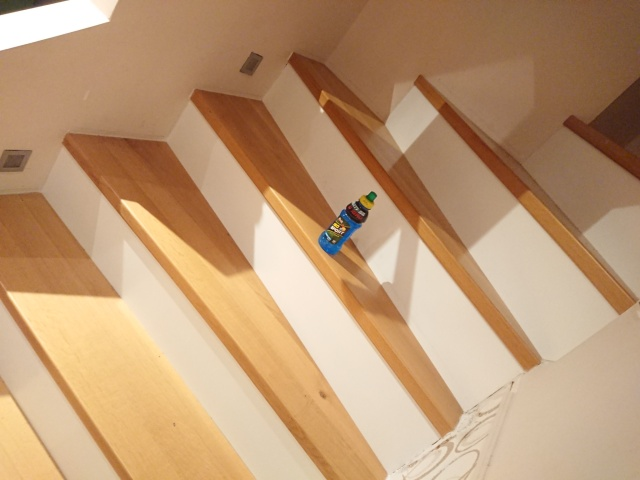Vindi Iso Sport Forest Strawberries 500mL: (316, 189, 378, 255)
